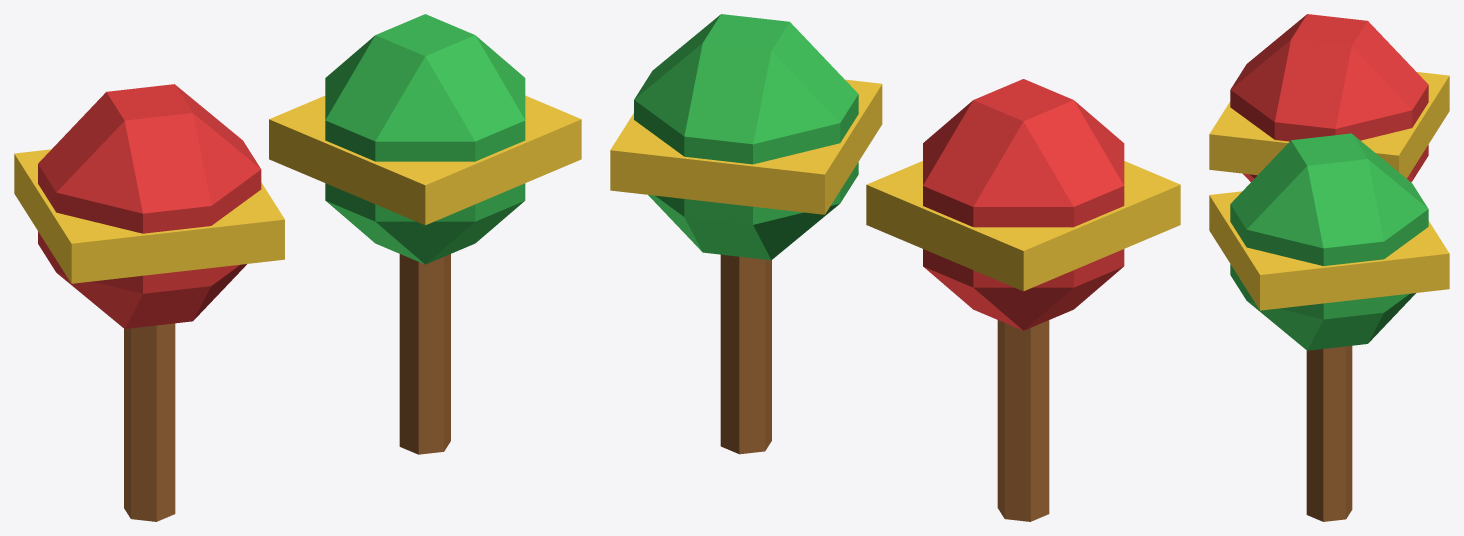
The model's file is Maracas.fbx.
3 renders of one model, left to right at view 1: azimuth 30°, elevation 25°; view 2: azimuth 150°, elevation 25°; view 3: azimuth 270°, elevation 25°, orthographic. The views are drawn at different scales.
Visible parts, largest first — view 1: Maracas; view 2: Maracas; view 3: Maracas.
Boxes of the visible parts, <box> form: Maracas: <box>14,14,581,521</box>; Maracas: <box>610,14,1180,521</box>; Maracas: <box>1209,14,1449,521</box>.
Bounding box in the file's own units: 3.33 × 2.55 × 1.53.
1 material, 1 textured.
